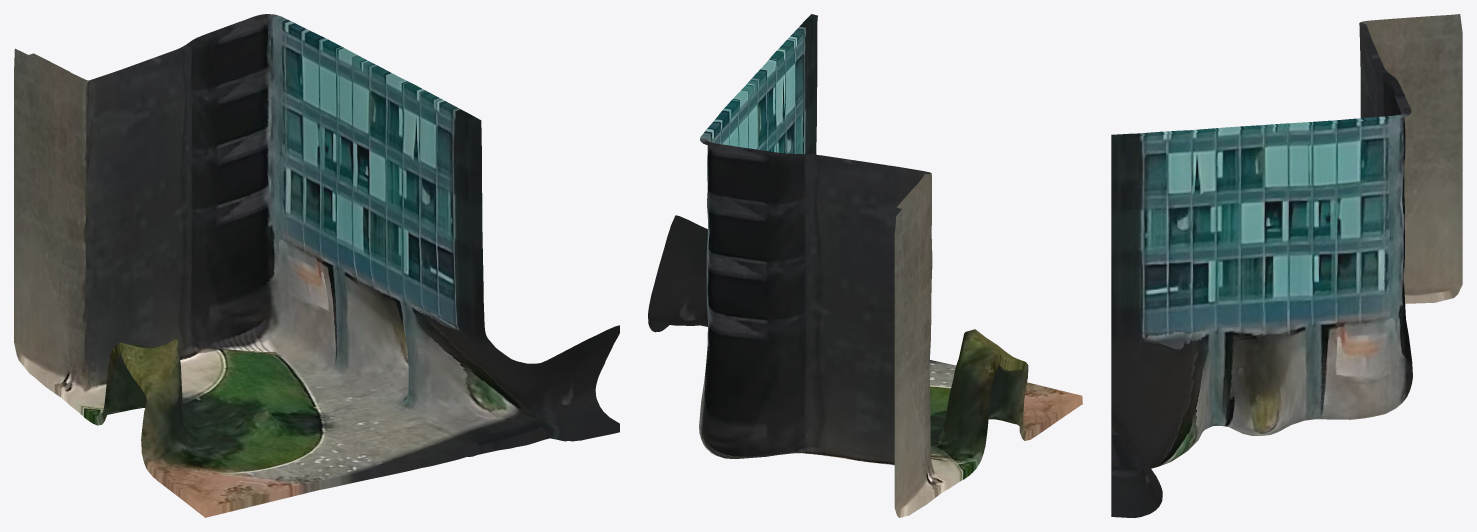
The model's file is z20-167772-405237-h0-yup-uvflip-v3-world.glb.
The picture shows the model from 3 angles, left to right: view 1: azimuth 30°, elevation 25°; view 2: azimuth 150°, elevation 25°; view 3: azimuth 270°, elevation 25°; orthographic projection. The views are drawn at different scales.
Bounding box in the file's own units: 30.2 × 24.12 × 24.12.
1 material, 1 textured.
